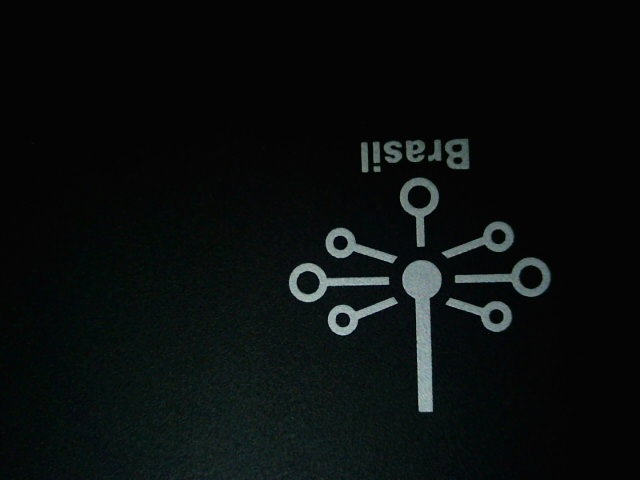BG_Brasil: (261, 118, 567, 442)
